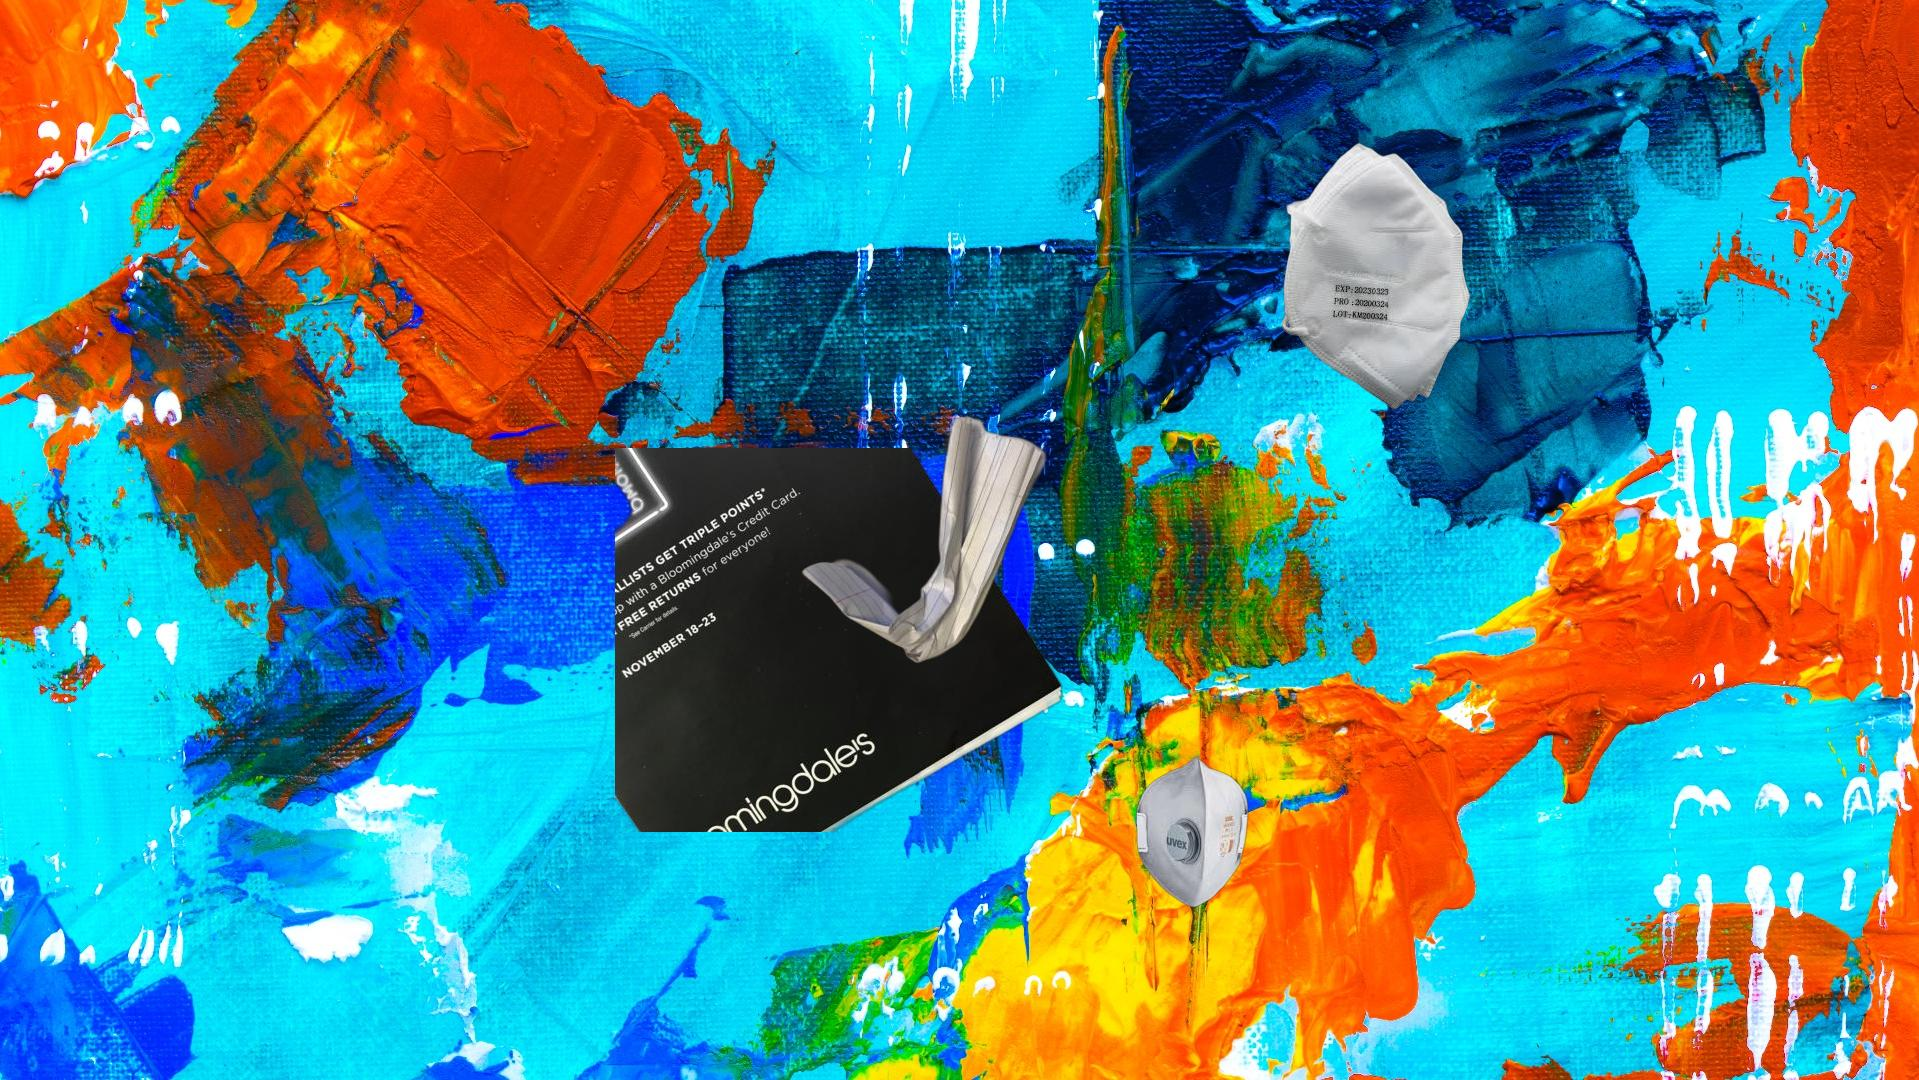paper: (616, 448, 1068, 832), (797, 411, 1050, 667)
trash: (1282, 142, 1470, 410), (1133, 753, 1251, 910)
